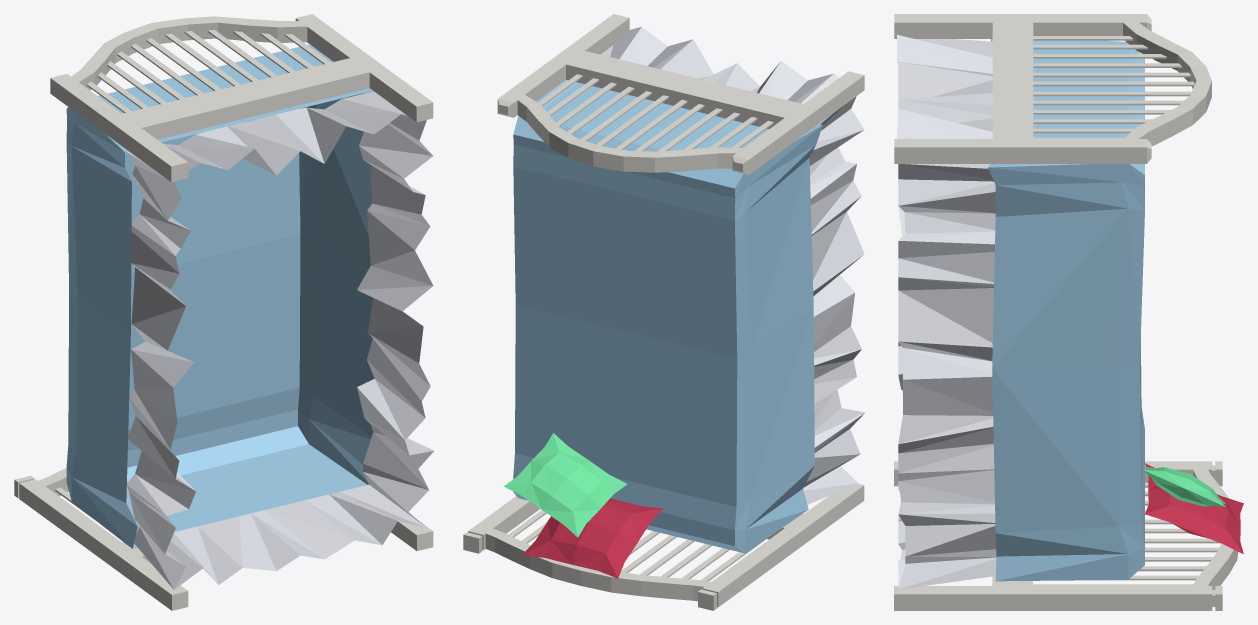
Rendered from bed.dae.
The picture shows the model from 3 angles, left to right: view 1: azimuth 30°, elevation 25°; view 2: azimuth 150°, elevation 25°; view 3: azimuth 270°, elevation 25°; orthographic projection. The views are drawn at different scales.
Parts seen in each view (by area): view 1: Cube; view 2: Cube; view 3: Cube.
Boxes of the visible parts, x1,y1,x2,y2 form: Cube: (14,14,433,610); Cube: (463,14,865,610); Cube: (894,14,1243,610).
Bounding box in the file's own units: 4.84 × 5.25 × 7.68.
